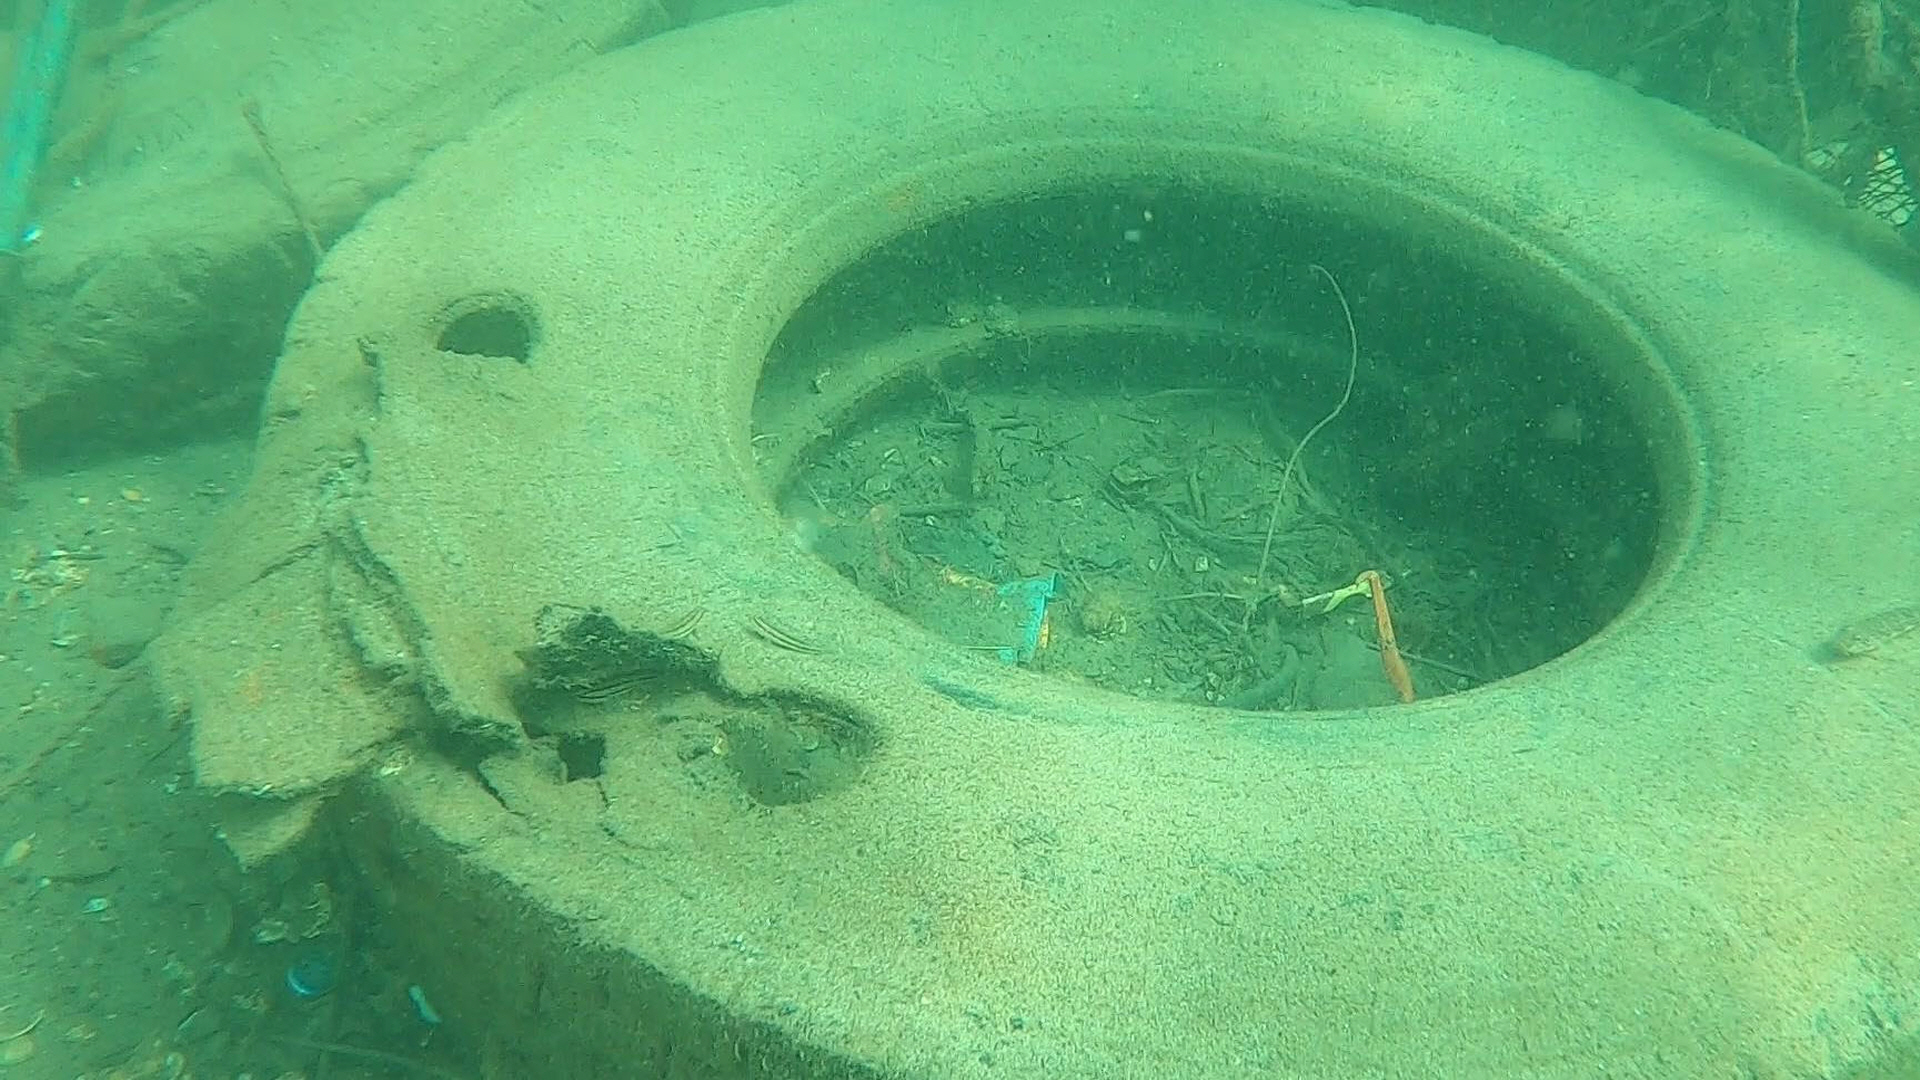tire: (253, 0, 1920, 1073)
